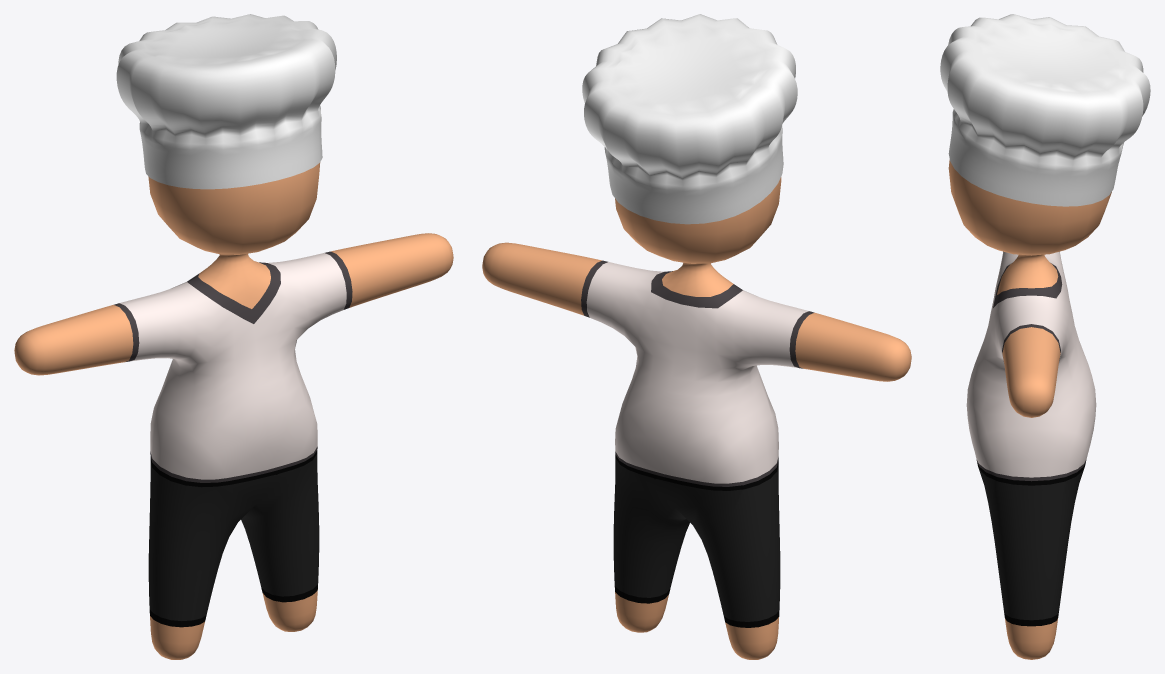
The model's file is sdjj 1.fbx.
The picture shows the model from 3 angles, left to right: view 1: azimuth 30°, elevation 25°; view 2: azimuth 150°, elevation 25°; view 3: azimuth 270°, elevation 25°; orthographic projection. The views are drawn at different scales.
Parts seen in each view (by area): view 1: Cube; view 2: Cube; view 3: Cube.
Boxes of the visible parts, left/top/right/bottom form: Cube: left=14, top=14, right=453, bottom=659; Cube: left=482, top=14, right=911, bottom=659; Cube: left=940, top=14, right=1150, bottom=659.
Bounding box in the file's own units: 719 × 972 × 314.
